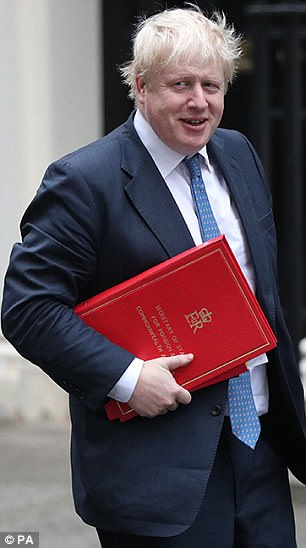red folder: (58, 233, 283, 426)
